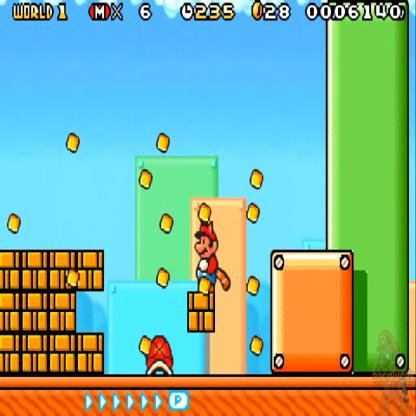Mario: (189, 217, 233, 297)
caparazon: (144, 330, 176, 384)
moneda: (248, 0, 266, 26)
